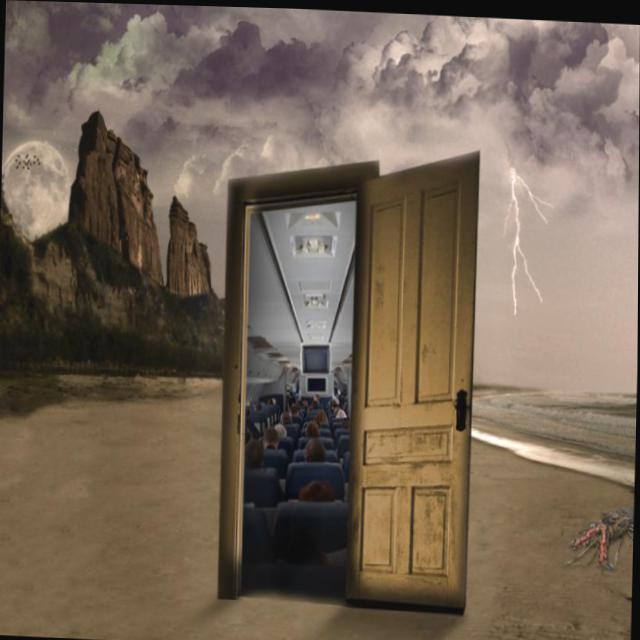open: (204, 124, 493, 632)
